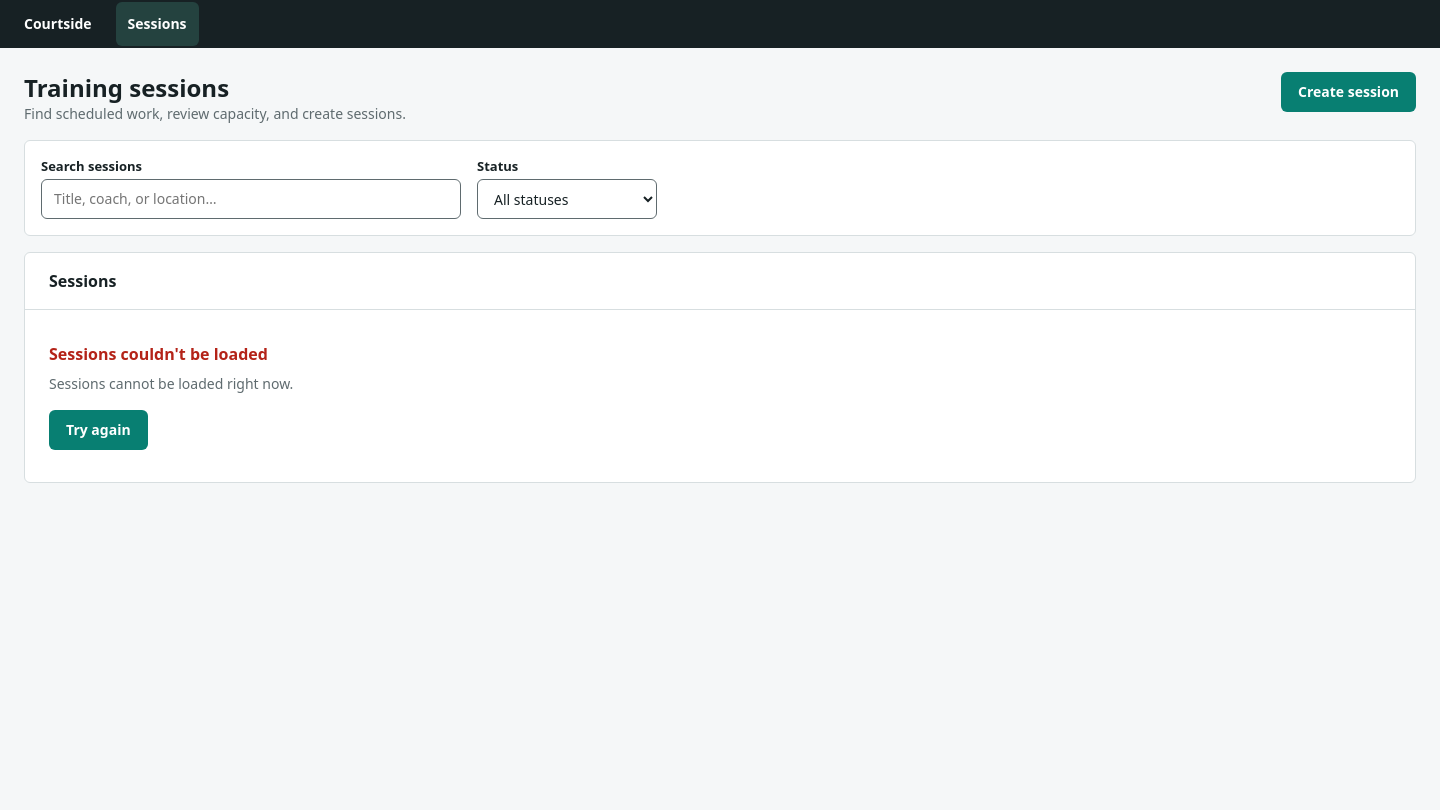
Test: Sessions workspace › shows a useful list error and recovers on retry
The width and height of the screenshot is (1440, 810).
Expected: the heading "Sessions couldn't be loaded" is shown, [49,343,268,365]
Expected: the message shows "Sessions cannot be loaded right now.", [49,374,293,393]
Click the button "Try again" at (98, 430), box [49,410,148,450]
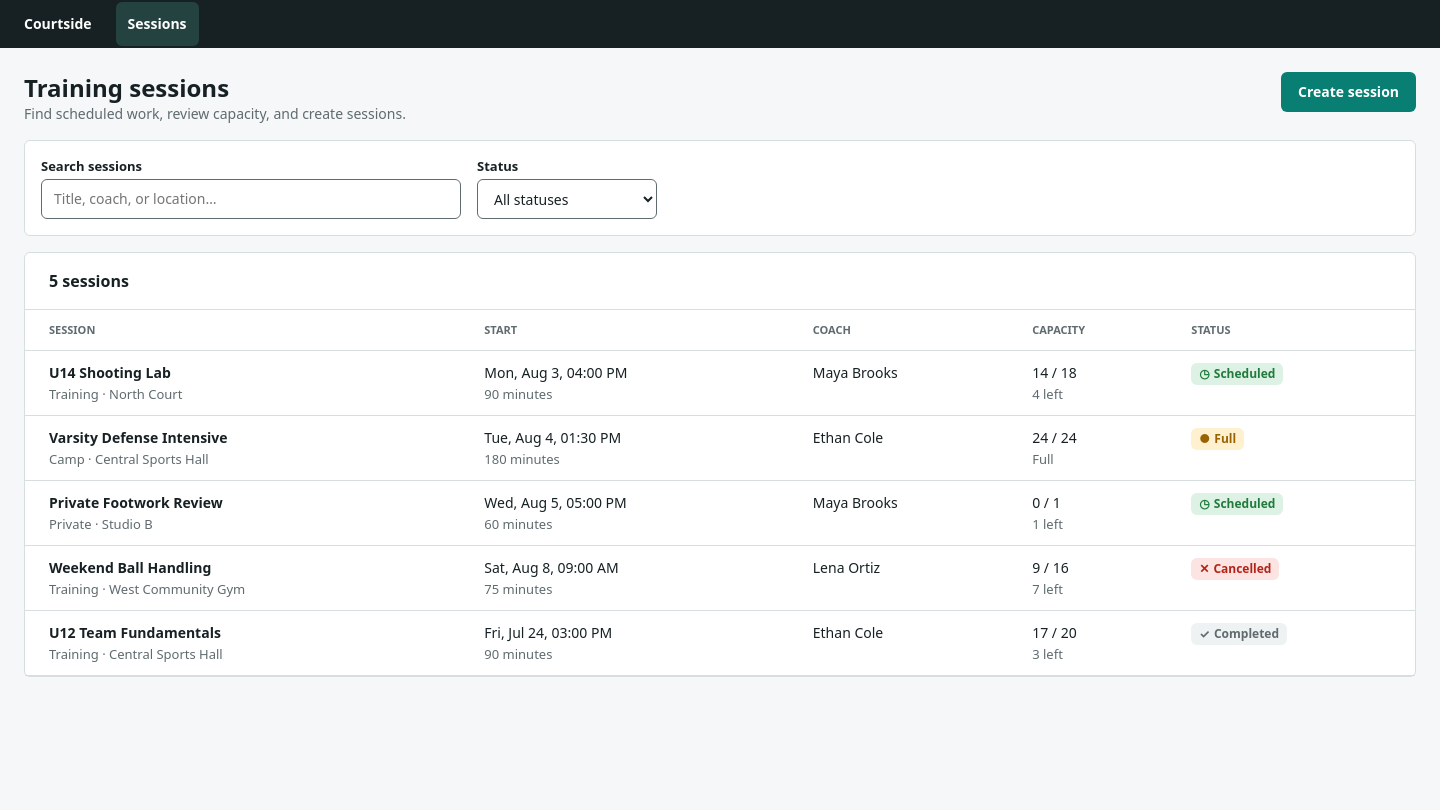
Expected: the link "U14 Shooting Lab" is shown, [49,363,171,382]
